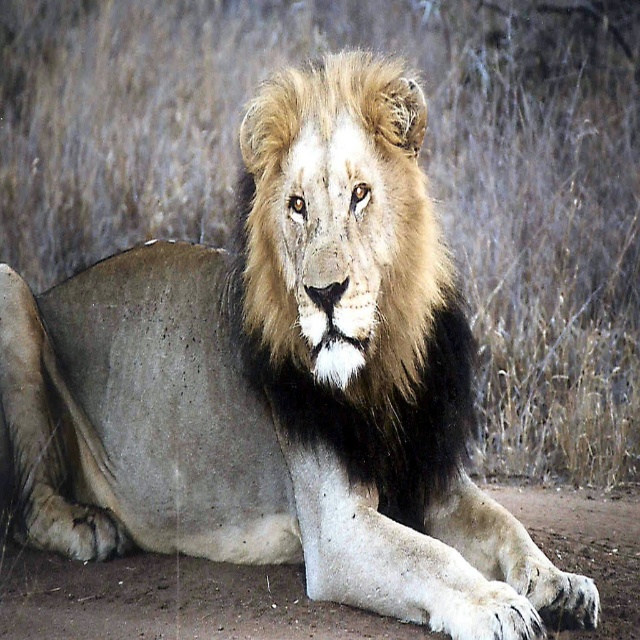Lion: (0, 51, 602, 639)
